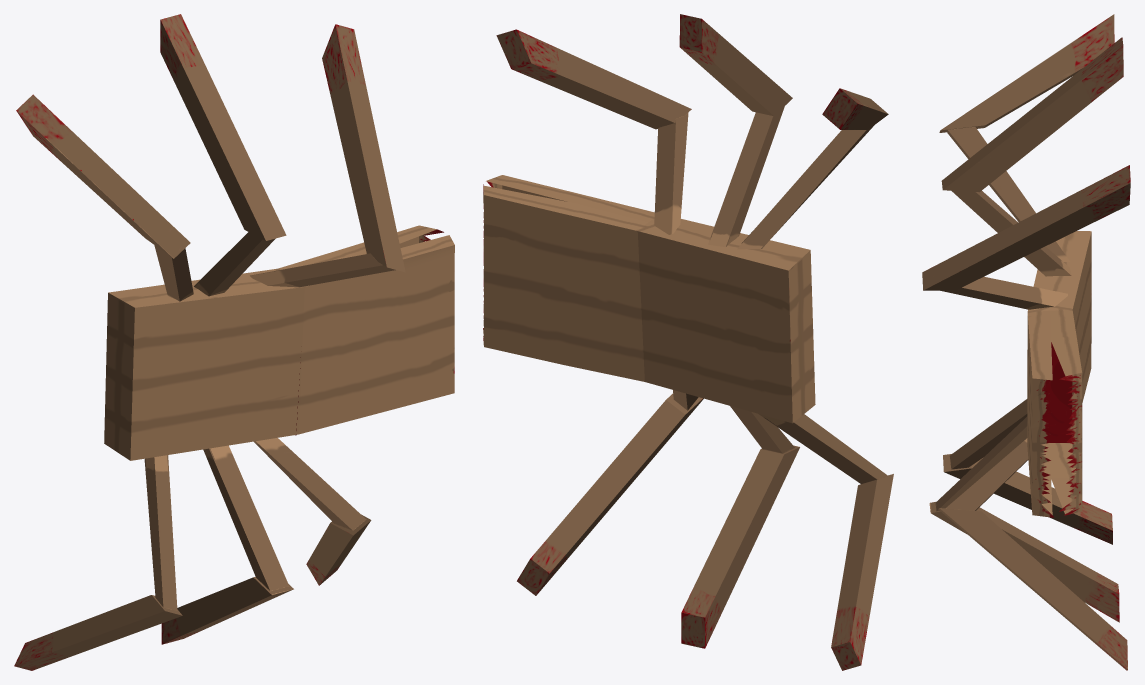
File: Enemy.fbx
The picture shows the model from 3 angles, left to right: view 1: azimuth 30°, elevation 25°; view 2: azimuth 150°, elevation 25°; view 3: azimuth 270°, elevation 25°; orthographic projection. The views are drawn at different scales.
Visible parts, largest first — view 1: Enemy; view 2: Enemy; view 3: Enemy.
Boxes of the visible parts, x1,y1,x2,y2 form: Enemy: (14,14,454,670); Enemy: (483,14,893,670); Enemy: (922,14,1130,670).
Size of the model in its own units: 417 by 615 by 202.
